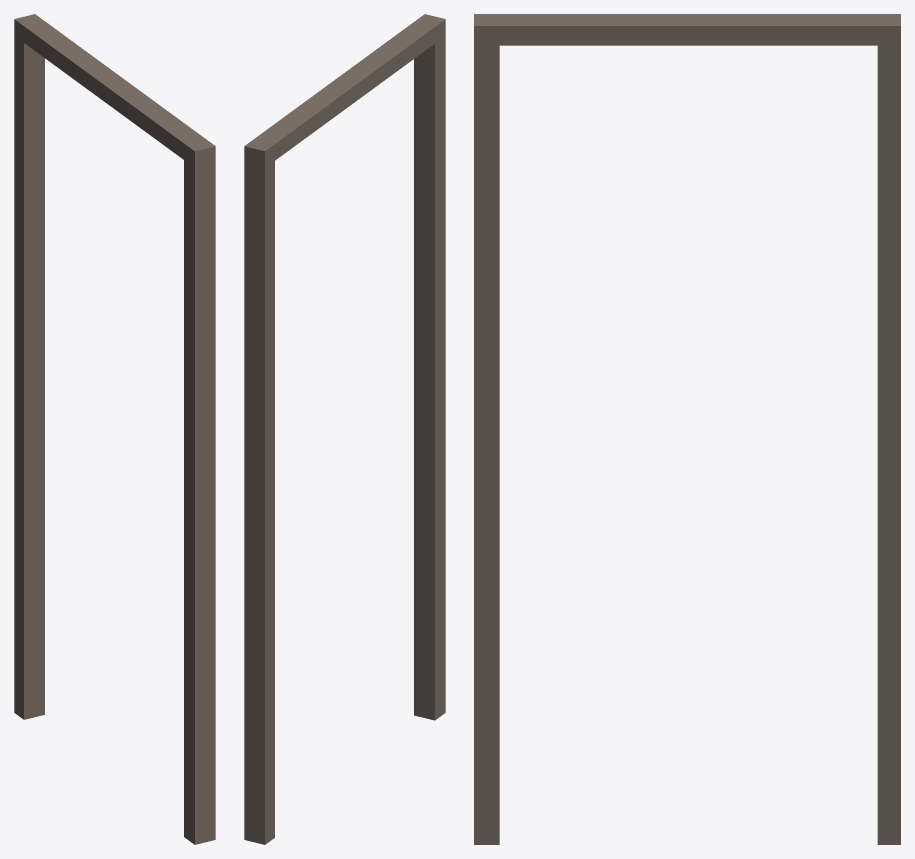
File: door_frame.fbx
3 renders of one model, left to right at view 1: azimuth 30°, elevation 25°; view 2: azimuth 150°, elevation 25°; view 3: azimuth 270°, elevation 25°, orthographic. The views are drawn at different scales.
Parts seen in each view (by area): view 1: door_frame_geo; view 2: door_frame_geo; view 3: door_frame_geo.
Part boxes in pixels (x1,y1,x2,y2): door_frame_geo: [14, 14, 215, 844]; door_frame_geo: [244, 14, 445, 844]; door_frame_geo: [474, 14, 900, 844].
Bounding box in the file's own units: 5.41 × 172 × 81.19.
